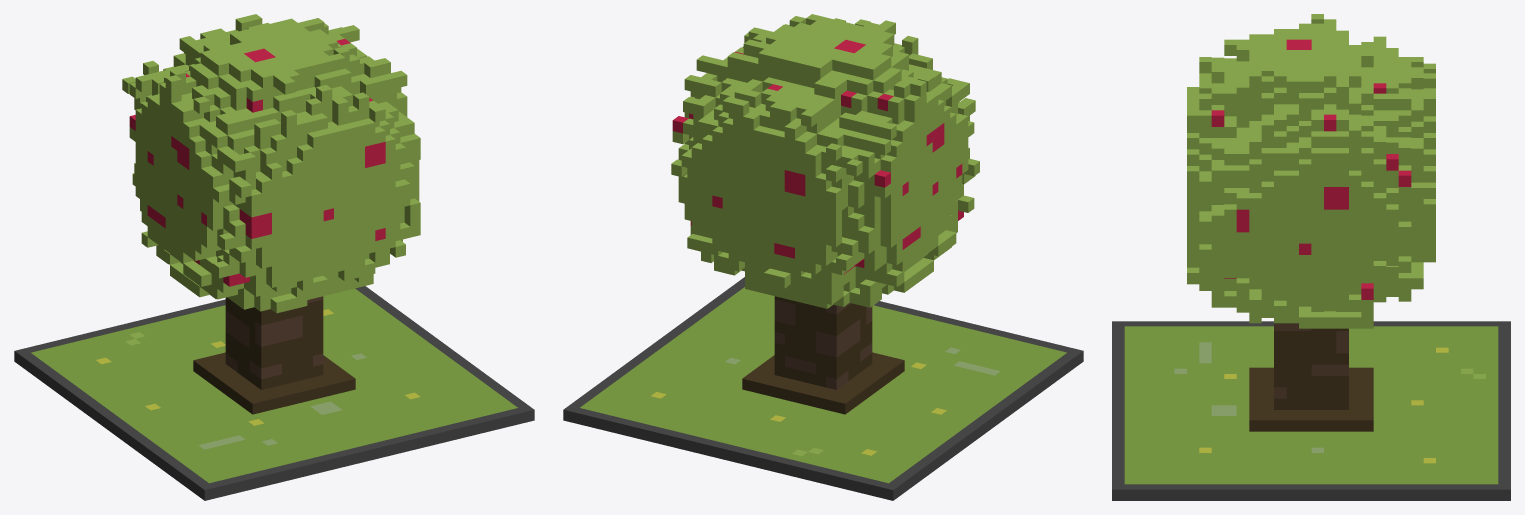
The model's file is tree.glb.
3 renders of one model, left to right at view 1: azimuth 30°, elevation 25°; view 2: azimuth 150°, elevation 25°; view 3: azimuth 270°, elevation 25°, orthographic. The views are drawn at different scales.
Parts seen in each view (by area): view 1: Node; view 2: Node; view 3: Node.
Boxes of the visible parts, x1,y1,x2,y2 form: Node: (14, 14, 534, 500); Node: (563, 14, 1083, 500); Node: (1112, 14, 1510, 500).
Bounding box in the file's own units: 3.2 × 3.2 × 3.2.
Materials: 1 (1 with a texture image).
